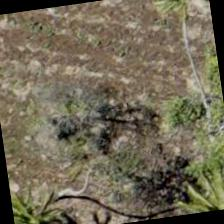Kelapa_Sawit: (8, 172, 75, 223), (179, 156, 223, 215)
